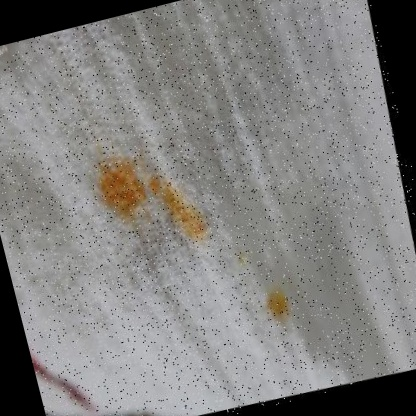kimchi: (83, 153, 155, 228), (148, 167, 212, 250), (254, 284, 297, 333), (232, 248, 253, 269)
